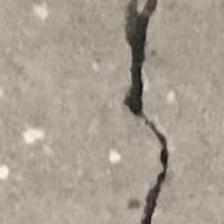Crack: (83, 0, 203, 224)
